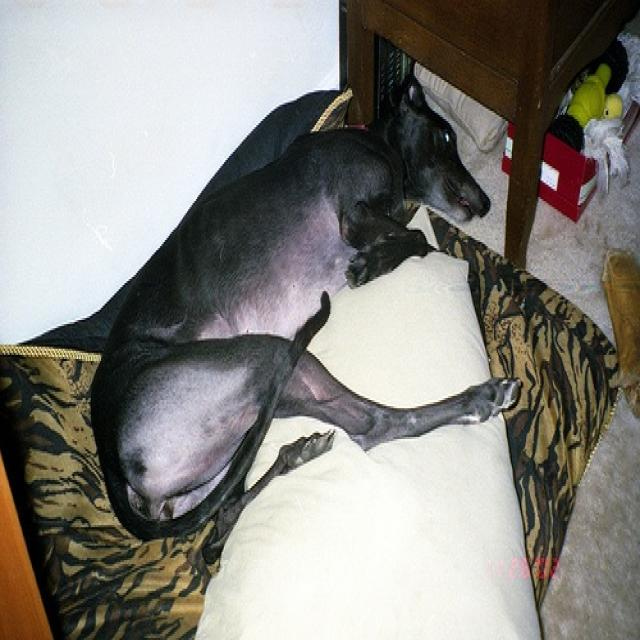dog: (91, 70, 522, 539)
